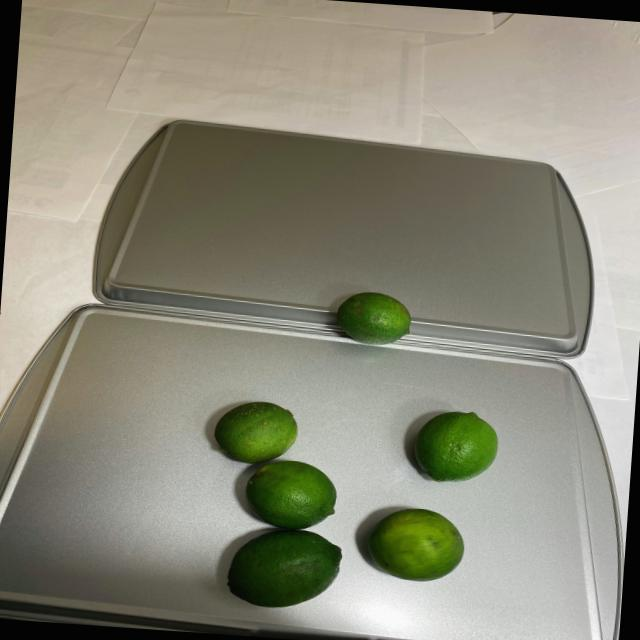lemon: (178, 388, 508, 623), (328, 288, 414, 352)
